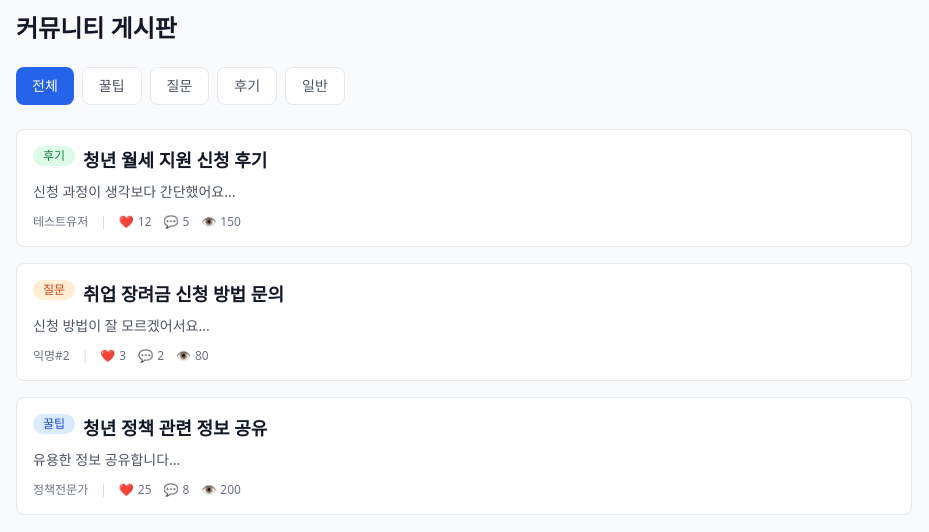
Test case: CommunityPage › 유형별 필터링이 작동한다
Check: the heading "청년 월세 지원 신청 후기" is shown, box x1=83 y1=148 x2=267 y2=172
Check: the heading "청년 정책 관련 정보 공유" is shown, box x1=83 y1=416 x2=267 y2=440
Note: Click on TIP filter
Click the button "꿀팁" at (112, 86), box x1=82 y1=67 x2=142 y2=105
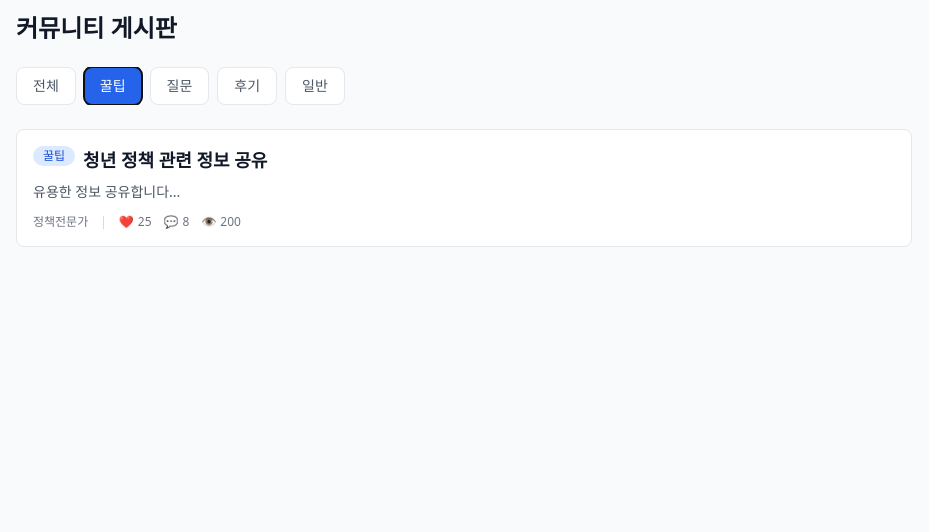
Check: the heading "청년 정책 관련 정보 공유" is shown, box x1=83 y1=148 x2=267 y2=172
Check: the heading "청년 월세 지원 신청 후기" is gone
Check: the heading "취업 장려금 신청 방법 문의" is gone
